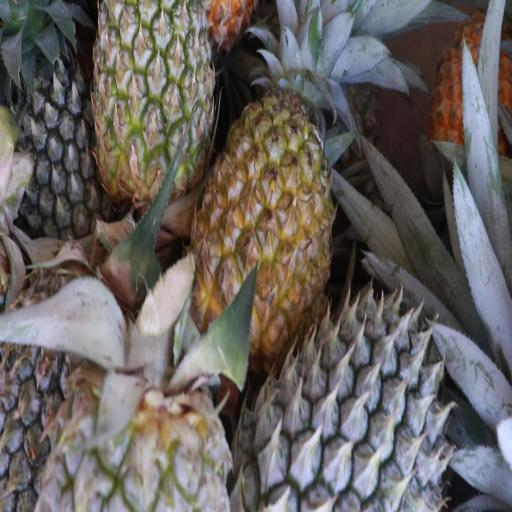------------------------------: (92, 1, 213, 212)
Pineapple - v8 v1: (190, 87, 331, 341), (431, 3, 512, 176)
